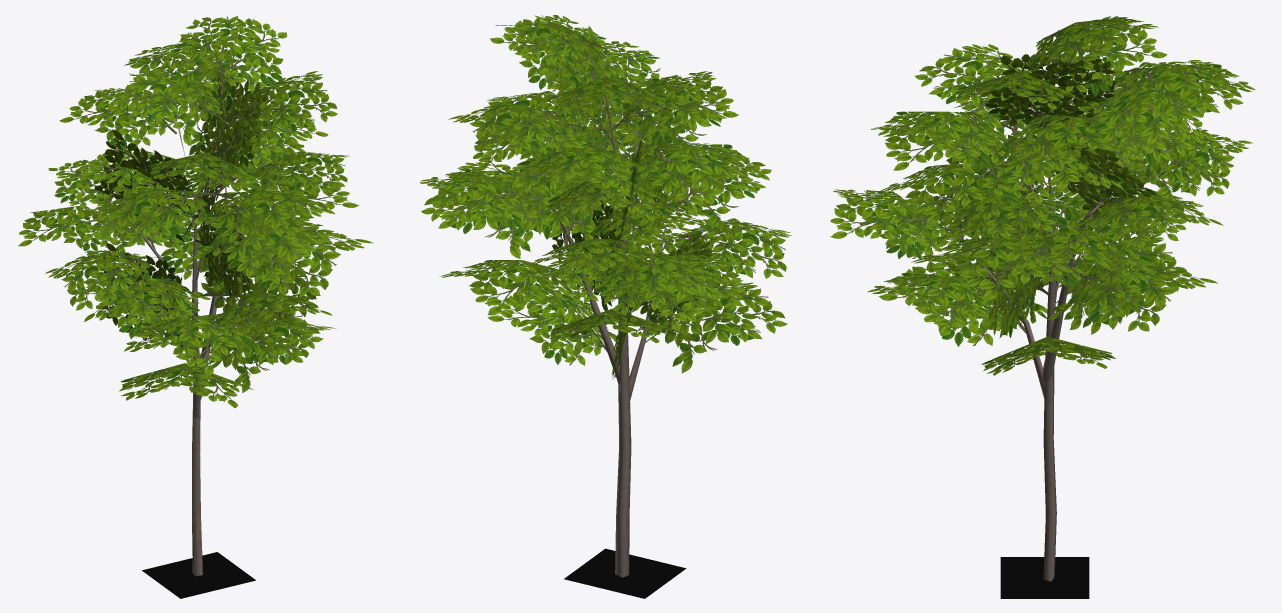
Rendered from jj_tyshu02.FBX.
3 renders of one model, left to right at view 1: azimuth 30°, elevation 25°; view 2: azimuth 150°, elevation 25°; view 3: azimuth 270°, elevation 25°, orthographic. The views are drawn at different scales.
Visible parts, largest first — view 1: jj_tyshu02, shadow; view 2: jj_tyshu02, shadow; view 3: jj_tyshu02, shadow.
Part boxes in pixels (bbox=[...]): jj_tyshu02: bbox=[18, 16, 373, 576]; shadow: bbox=[142, 552, 255, 598]; jj_tyshu02: bbox=[420, 15, 791, 577]; shadow: bbox=[564, 548, 686, 598]; jj_tyshu02: bbox=[830, 16, 1255, 581]; shadow: bbox=[1000, 557, 1089, 598].
Bounding box in the file's own units: 254 × 424 × 287.
2 materials, 2 textured.
